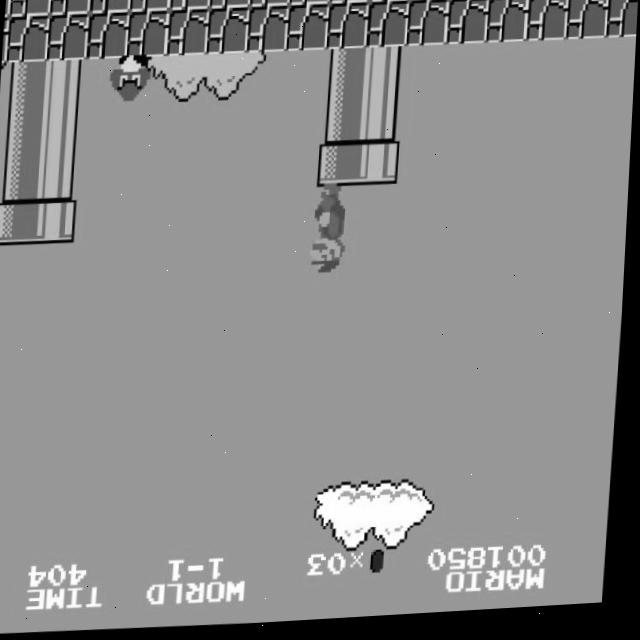0- big_mario: (308, 186, 357, 283)
14- pipe: (360, 95, 404, 144), (363, 50, 407, 99), (320, 97, 364, 146), (323, 51, 367, 100), (41, 105, 85, 154), (43, 59, 87, 108), (1, 106, 45, 155), (38, 151, 82, 199), (4, 61, 47, 110), (0, 153, 42, 201)
15- pipe_head: (35, 196, 79, 245), (358, 142, 402, 190), (318, 143, 362, 191), (0, 198, 39, 247)
17- undestructible_block: (486, 1, 530, 50), (446, 2, 490, 51), (406, 3, 450, 52), (366, 4, 410, 53), (326, 5, 370, 54), (286, 7, 330, 56), (246, 7, 290, 56), (206, 9, 250, 58), (166, 10, 210, 59), (126, 11, 170, 60), (86, 12, 130, 61), (46, 13, 90, 62), (6, 15, 50, 64), (526, 0, 570, 48), (566, 0, 610, 47), (606, 0, 639, 46), (9, 0, 51, 18), (49, 0, 91, 17), (89, 0, 131, 16), (129, 0, 171, 14), (169, 0, 211, 13), (209, 0, 251, 12), (249, 0, 291, 10), (329, 0, 371, 9), (289, 0, 331, 9), (2, 17, 10, 63), (369, 0, 411, 7), (409, 0, 451, 6), (449, 0, 491, 5), (489, 0, 531, 4), (529, 0, 571, 3), (4, 0, 10, 17), (569, 0, 611, 1), (609, 0, 640, 1)
8- goomba: (109, 54, 155, 106)
